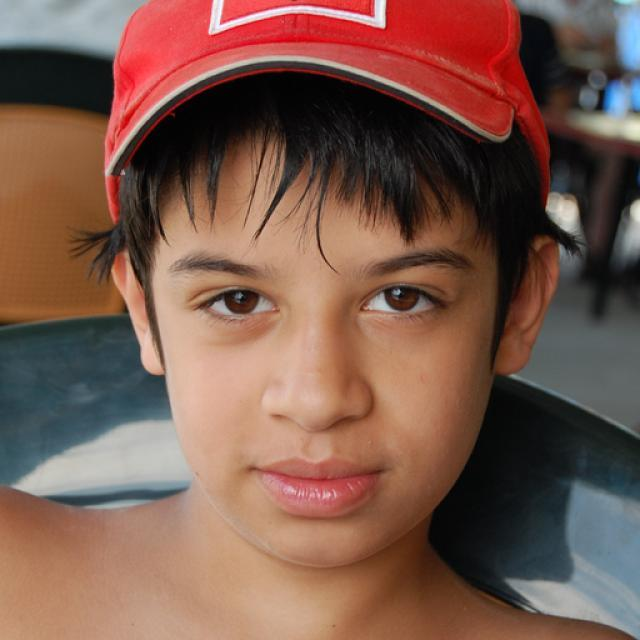content: (158, 144, 496, 566)
